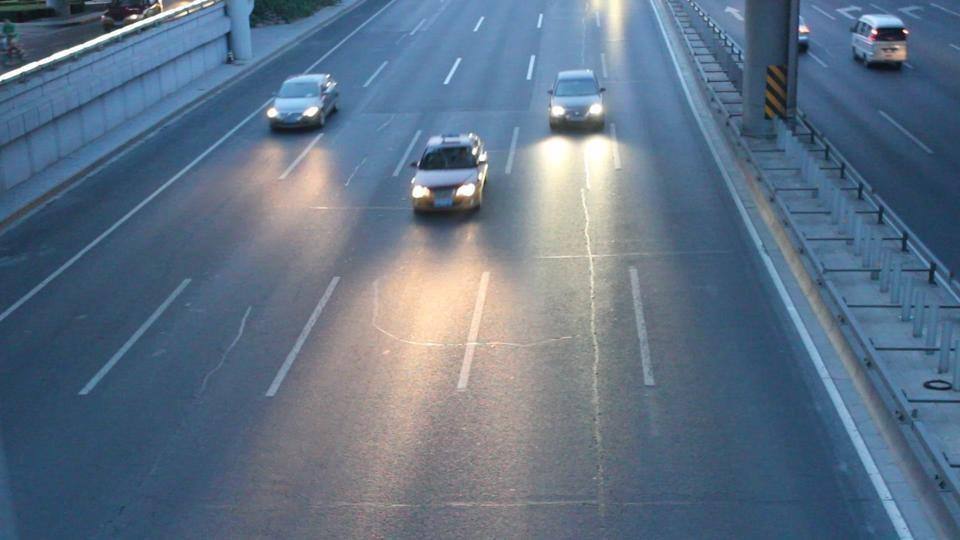car: (408, 132, 490, 213), (266, 72, 340, 132), (547, 68, 608, 133), (848, 12, 910, 68), (101, 0, 162, 31)
